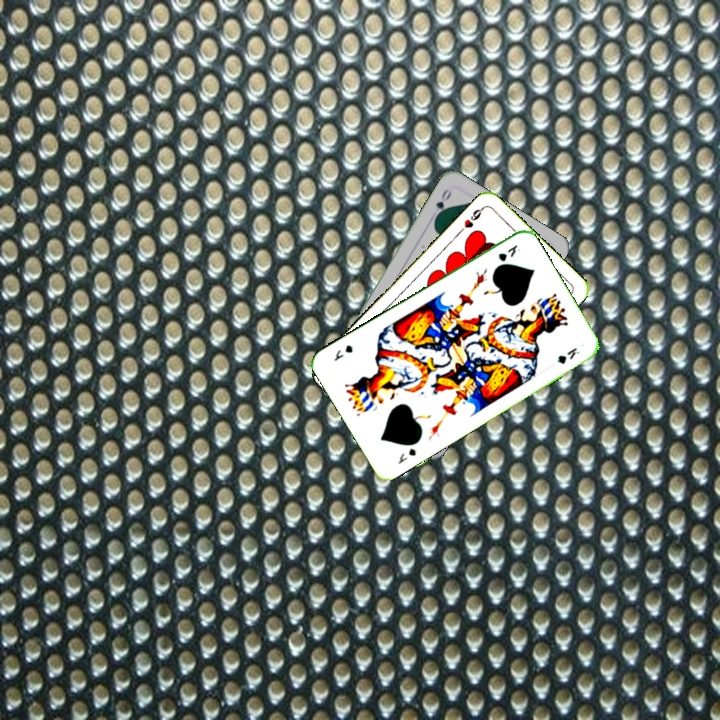GK: (494, 240, 523, 264), (394, 444, 419, 467)
GO: (431, 185, 454, 222)
H9: (455, 203, 486, 236)
